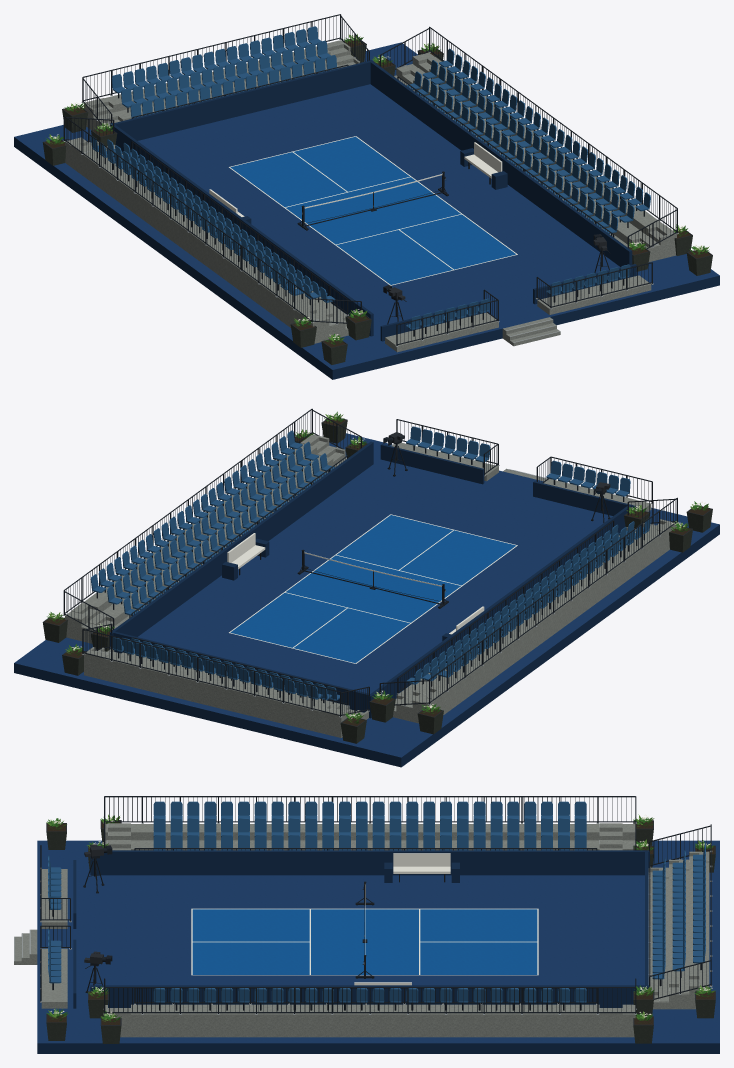
Rendered from ProfessionalStadium.glb.
3 renders of one model, top to bottom at view 1: azimuth 30°, elevation 25°; view 2: azimuth 150°, elevation 25°; view 3: azimuth 270°, elevation 25°, orthographic. The views are drawn at different scales.
Visible parts, largest first — view 1: Court_Regulation_InlaidLines, Grandstands_Tiered_Structure, Courtside_Sponsor_Barriers, Guardrails_And_Balusters, Seats_East, Seats_North, Seats_West, Twelve_Tapered_Planters, Aisle_And_Entry_Stairs, Seats_South, Players_Benches_And_Broadcast_Cameras, Foliage_LowPoly (+1 smaller); view 2: Court_Regulation_InlaidLines, Grandstands_Tiered_Structure, Guardrails_And_Balusters, Courtside_Sponsor_Barriers, Seats_East, Seats_West, Twelve_Tapered_Planters, Seats_North, Seats_South, Aisle_And_Entry_Stairs, Players_Benches_And_Broadcast_Cameras, Foliage_LowPoly (+1 smaller); view 3: Court_Regulation_InlaidLines, Grandstands_Tiered_Structure, Courtside_Sponsor_Barriers, Seats_West, Guardrails_And_Balusters, Seats_East, Seats_North, Twelve_Tapered_Planters, Aisle_And_Entry_Stairs, Players_Benches_And_Broadcast_Cameras, Foliage_LowPoly, Seats_South.
Part boxes in pixels (x1,y1,x2,y2): Court_Regulation_InlaidLines: (14, 42, 719, 379); Grandstands_Tiered_Structure: (65, 40, 676, 352); Courtside_Sponsor_Barriers: (109, 60, 636, 341); Guardrails_And_Balusters: (63, 14, 678, 346); Seats_East: (407, 48, 650, 235); Seats_North: (111, 26, 337, 118); Seats_West: (91, 136, 335, 308); Twelve_Tapered_Planters: (42, 38, 712, 364); Aisle_And_Entry_Stairs: (71, 40, 674, 346); Seats_South: (406, 264, 630, 336); Players_Benches_And_Broadcast_Cameras: (209, 142, 610, 324); Foliage_LowPoly: (46, 34, 709, 344); Court_Regulation_InlaidLines: (14, 433, 719, 767); Grandstands_Tiered_Structure: (65, 434, 676, 737); Guardrails_And_Balusters: (63, 408, 678, 717); Courtside_Sponsor_Barriers: (109, 441, 636, 718); Seats_East: (90, 430, 334, 617); Seats_West: (406, 518, 650, 689); Twelve_Tapered_Planters: (42, 416, 712, 743); Seats_North: (112, 637, 339, 706); Seats_South: (406, 426, 630, 501); Aisle_And_Entry_Stairs: (71, 435, 675, 737); Players_Benches_And_Broadcast_Cameras: (222, 432, 610, 640); Foliage_LowPoly: (47, 411, 708, 723); Court_Regulation_InlaidLines: (37, 840, 719, 1053); Grandstands_Tiered_Structure: (41, 824, 709, 1037); Courtside_Sponsor_Barriers: (73, 850, 649, 1008); Seats_West: (153, 801, 586, 850); Guardrails_And_Balusters: (40, 796, 712, 1014); Seats_East: (153, 988, 586, 1010); Seats_North: (652, 842, 705, 986); Twelve_Tapered_Planters: (46, 820, 715, 1043); Aisle_And_Entry_Stairs: (14, 823, 709, 1037); Players_Benches_And_Broadcast_Cameras: (83, 844, 459, 993); Foliage_LowPoly: (46, 814, 715, 1022); Seats_South: (48, 855, 61, 989).
Size of the model in its own units: 18.82 by 2.6 by 27.25.
18 materials, 17 textured.
